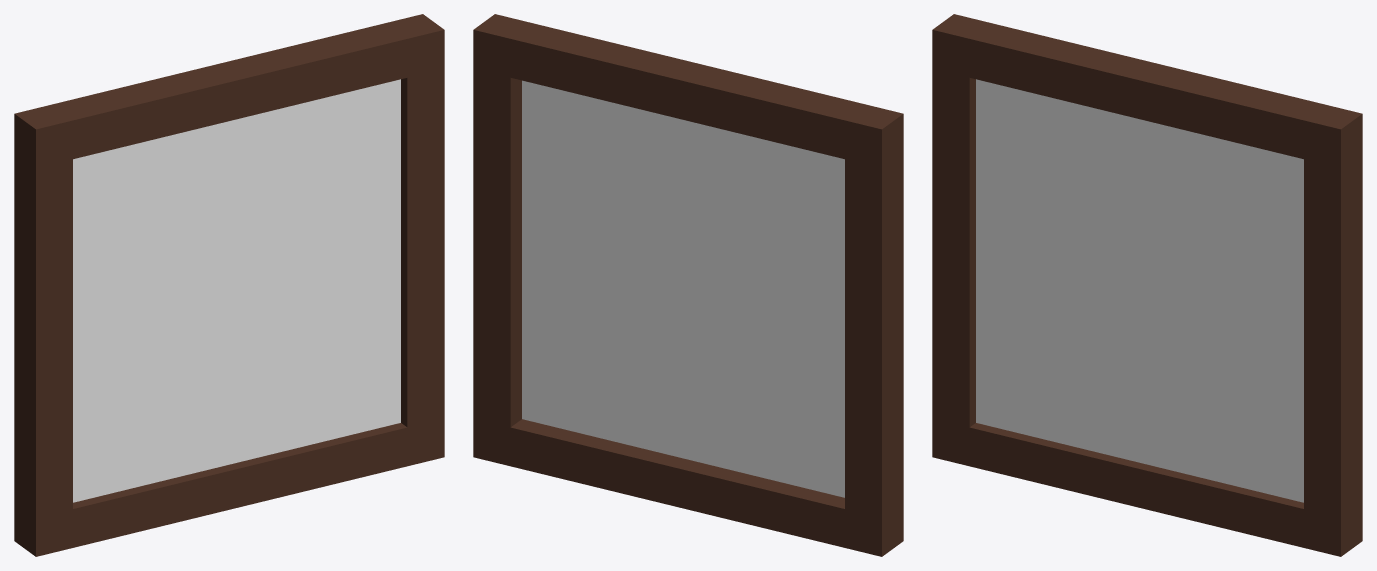
File: bosduvar.fbx
3 renders of one model, left to right at view 1: azimuth 30°, elevation 25°; view 2: azimuth 150°, elevation 25°; view 3: azimuth 330°, elevation 25°, orthographic.
Visible parts, largest first — view 1: Plane.036, Plane.040; view 2: Plane.036, Plane.040; view 3: Plane.036, Plane.040.
Boxes of the visible parts, bbox=[...] form: Plane.036: bbox=[73, 79, 400, 502]; Plane.040: bbox=[14, 14, 444, 556]; Plane.036: bbox=[522, 80, 844, 497]; Plane.040: bbox=[473, 14, 903, 556]; Plane.036: bbox=[976, 79, 1303, 502]; Plane.040: bbox=[932, 14, 1362, 556].
Size of the model in its own units: 2.86 by 2.86 by 0.2616.
